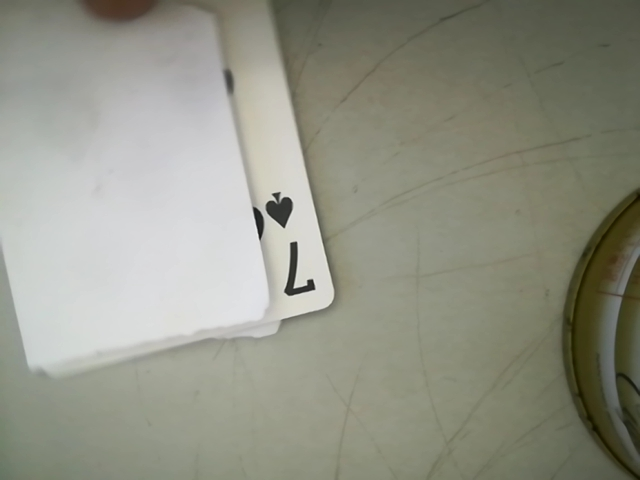ht 7: (248, 177, 327, 311)
